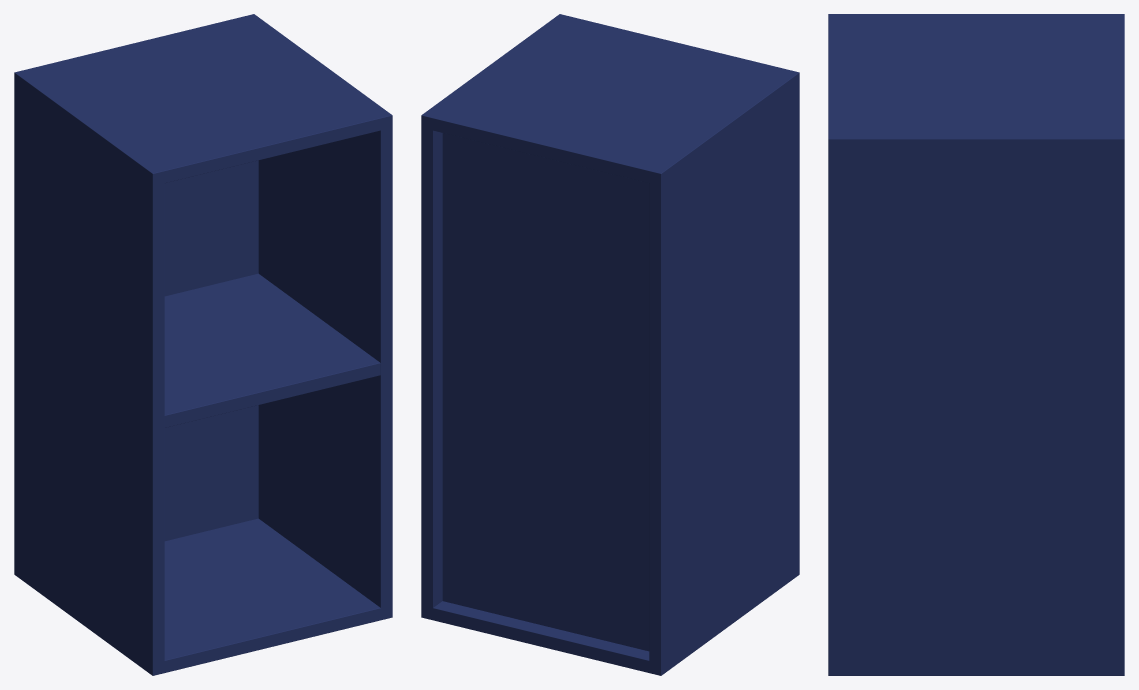
Rendered from MOD_1X2_S_B_AF.glb.
3 renders of one model, left to right at view 1: azimuth 30°, elevation 25°; view 2: azimuth 150°, elevation 25°; view 3: azimuth 270°, elevation 25°, orthographic. The views are drawn at different scales.
Size of the model in its own units: 360 by 720 by 360.
